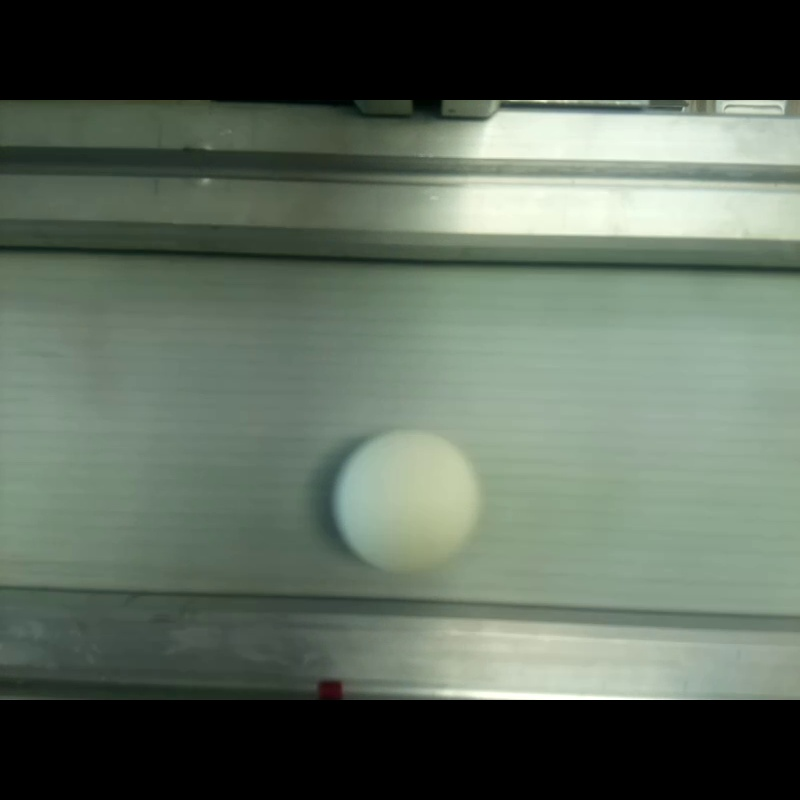marker: (331, 431, 476, 567)
